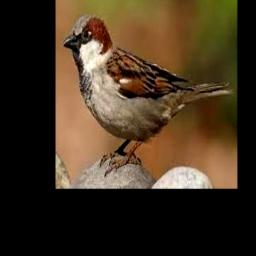Sparrow: (63, 15, 235, 176)
